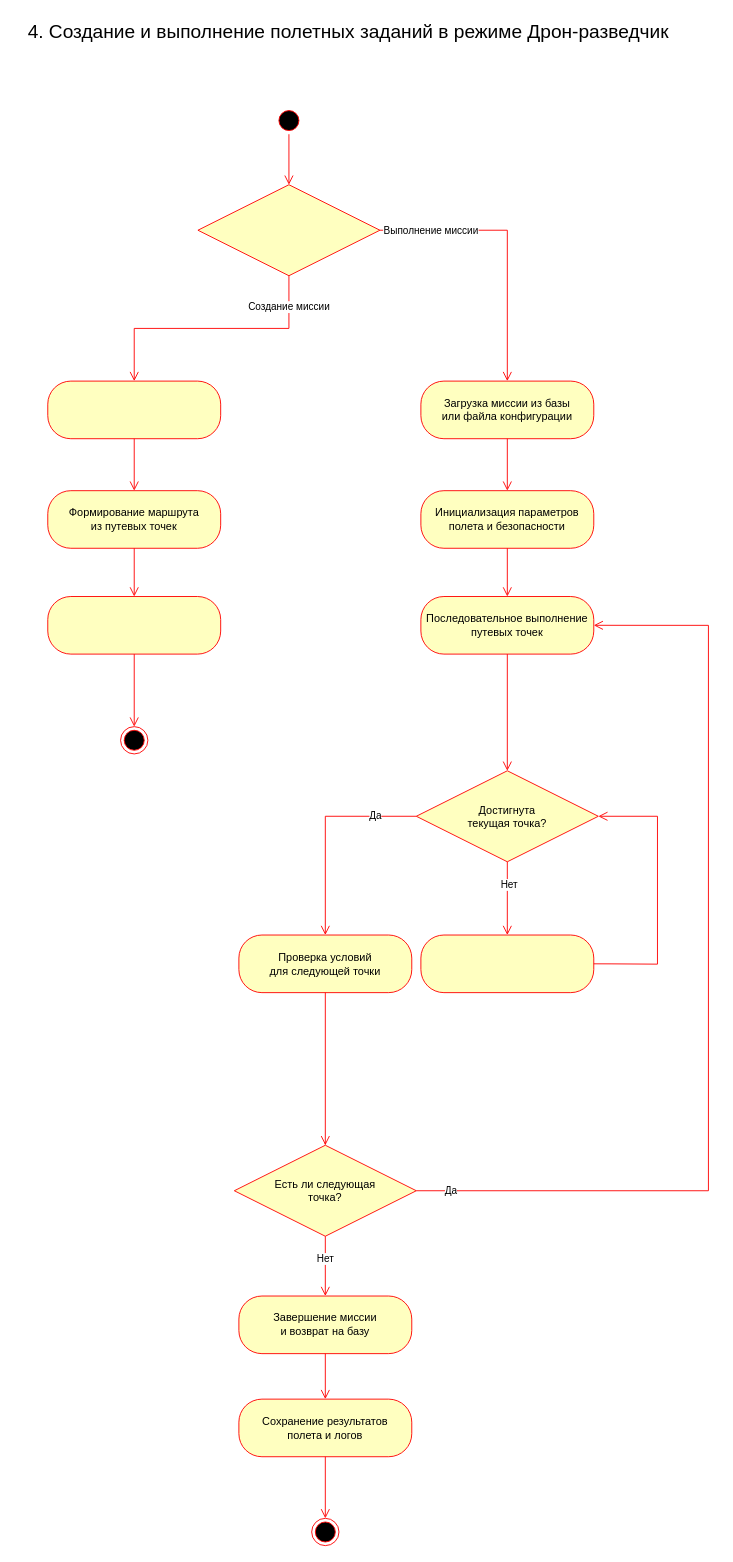
Image size: 733x1562. Some labels were removed from this diagram. The shapes that lost their labels are listed below. From the top down, each one's box as (x1, y1, x2, y2) in pixels, then its label:
(197, 184, 380, 276): Тип операции
(47, 380, 221, 439): Получение параметров миссии от оператора/автоматически
(47, 596, 221, 654): Сохранение миссии в локальное хранилище
(420, 934, 594, 993): Коррекция траектории на основе optical flow
